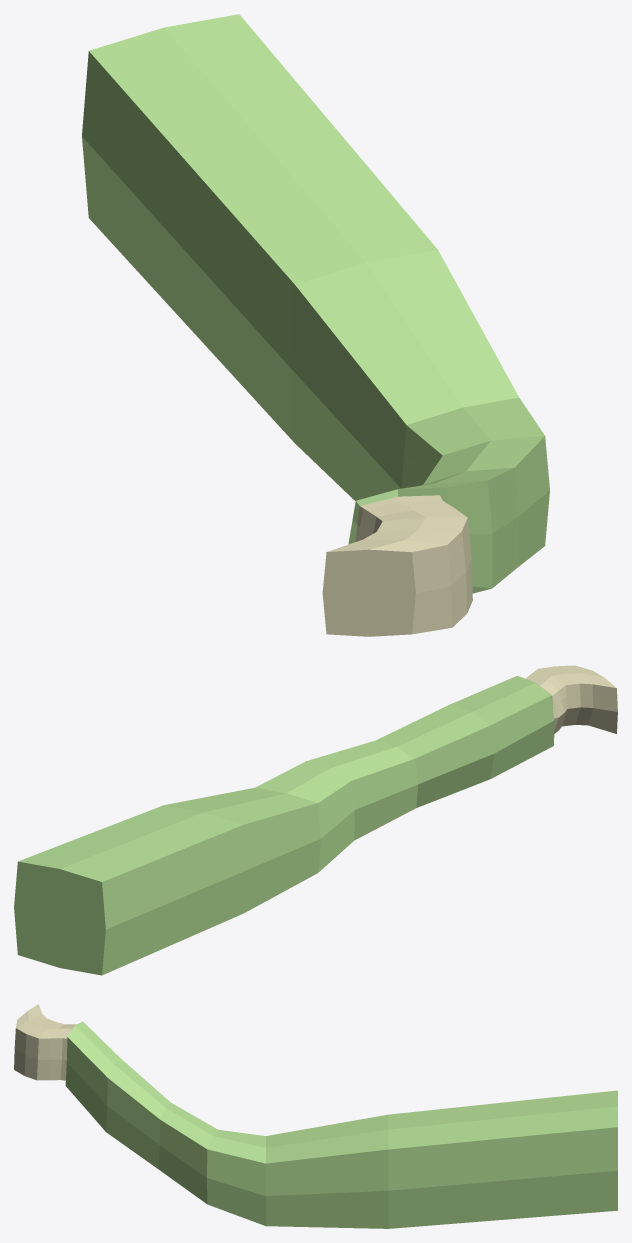
Rendered from left_arm.fbx.
The picture shows the model from 3 angles, top to bottom: view 1: azimuth 30°, elevation 25°; view 2: azimuth 150°, elevation 25°; view 3: azimuth 270°, elevation 25°; orthographic projection. The views are drawn at different scales.
Parts seen in each view (by area): view 1: Cube.001, Cube, Cube.002; view 2: Cube.001, Cube.002, Cube; view 3: Cube.001, Cube.002, Cube.
Boxes of the visible parts, box(x1,y1,x2,y2) form: Cube.001: box(82, 14, 518, 500); Cube: box(322, 487, 472, 636); Cube.002: box(400, 397, 549, 593); Cube.001: box(14, 787, 320, 975); Cube.002: box(255, 675, 554, 872); Cube: box(525, 665, 617, 733); Cube.001: box(266, 1090, 617, 1228); Cube.002: box(65, 1021, 265, 1225); Cube: box(14, 1004, 76, 1080).
Bounding box in the file's own units: 116 × 56.06 × 243.
